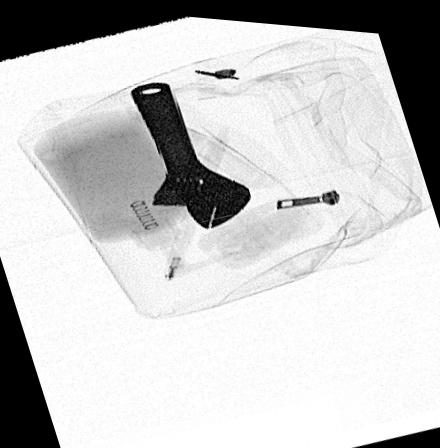Wrench: (127, 76, 252, 227)
